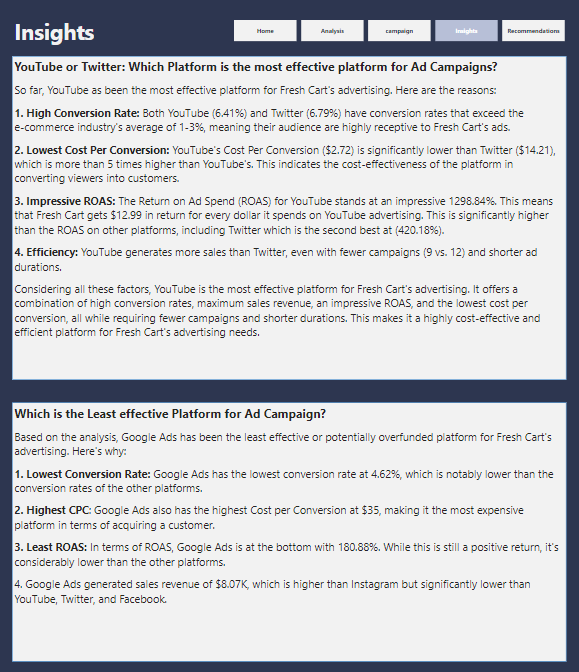

The page's visual inventory and layout, read from the dashboard file:
{"tool":"powerbi","page":{"name":"Insights","canvas":[1300,1500],"ordinal":3},"visuals":[{"type":"textbox","box":[32,32,448,96],"z":0},{"type":"shape","box":[32,128,1232,720],"z":4000},{"type":"shape","box":[32,896,1232,576],"z":5000},{"type":"pageNavigator","box":[528,48,736,48],"z":17000},{"type":"textbox","box":[32,128,1232,704],"z":17001},{"type":"textbox","box":[32,896,1232,576],"z":17002}]}

Visuals, with their boxes in screenshot pixels (x1, y1, x2, y2), scaled from the page's 1300x1500 canvas onto the 579x672 screenshot:
textbox: <bbox>14, 14, 214, 57</bbox>
shape: <bbox>14, 57, 563, 380</bbox>
shape: <bbox>14, 401, 563, 659</bbox>
pageNavigator: <bbox>235, 22, 563, 43</bbox>
textbox: <bbox>14, 57, 563, 373</bbox>
textbox: <bbox>14, 401, 563, 659</bbox>
